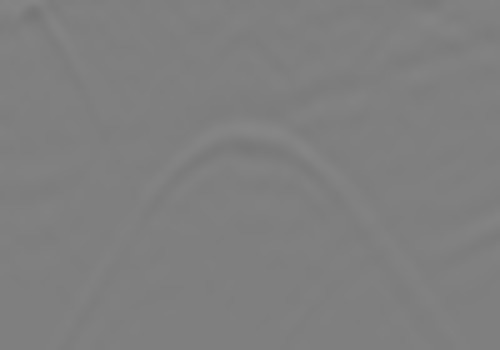hyperbola: (69, 119, 429, 323)
